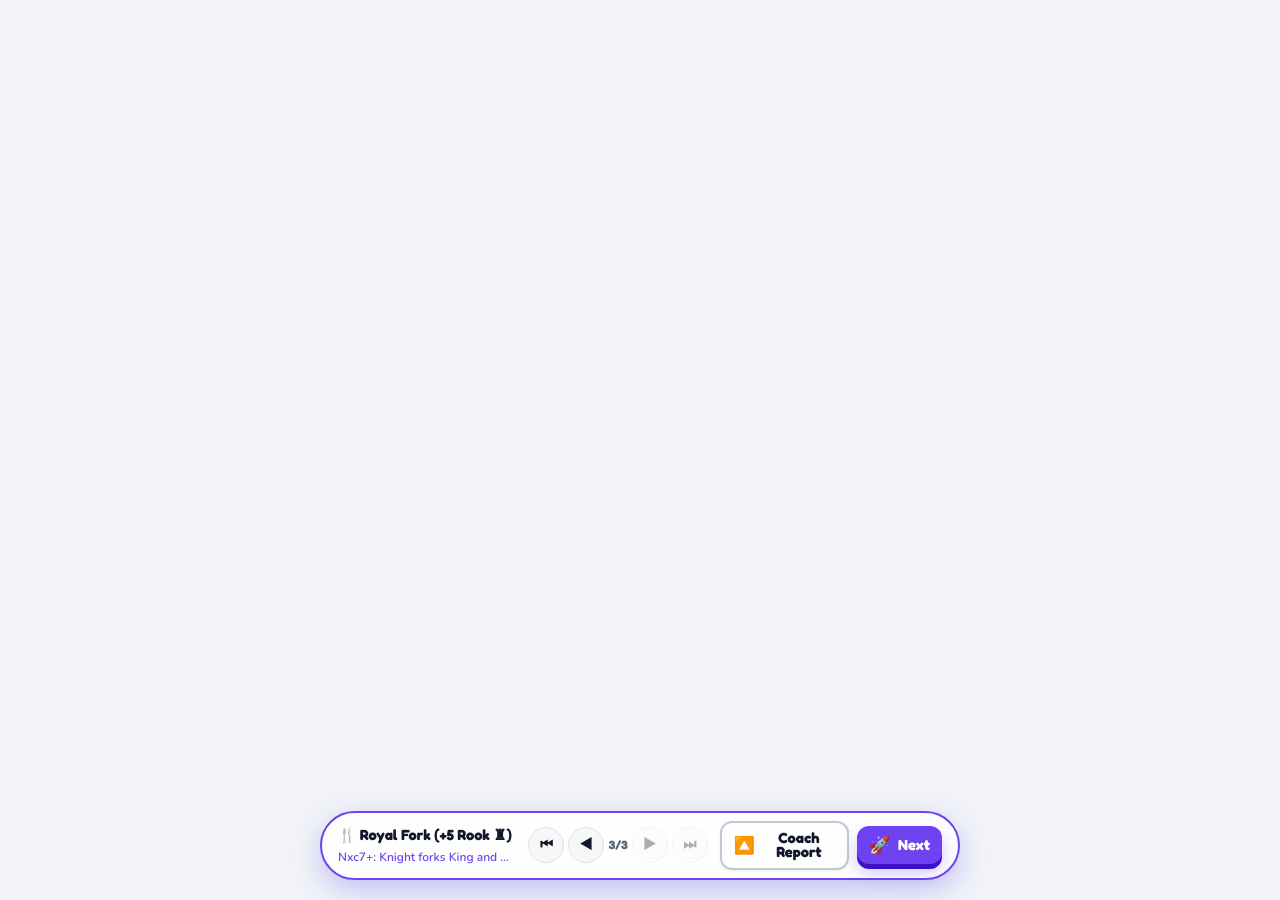
it: PuzzleCompletionModal.vue Component › "Inspect Board" / Minimize Toggle Interaction › restores full modal view when "Coach Report" button in docked bar is clicked
Expected: the element with test id "docked-inspect-bar" is shown, [320, 811, 960, 880]
Click the button with test id "expand-modal-btn".
click(784, 845)  # box [720, 821, 849, 870]
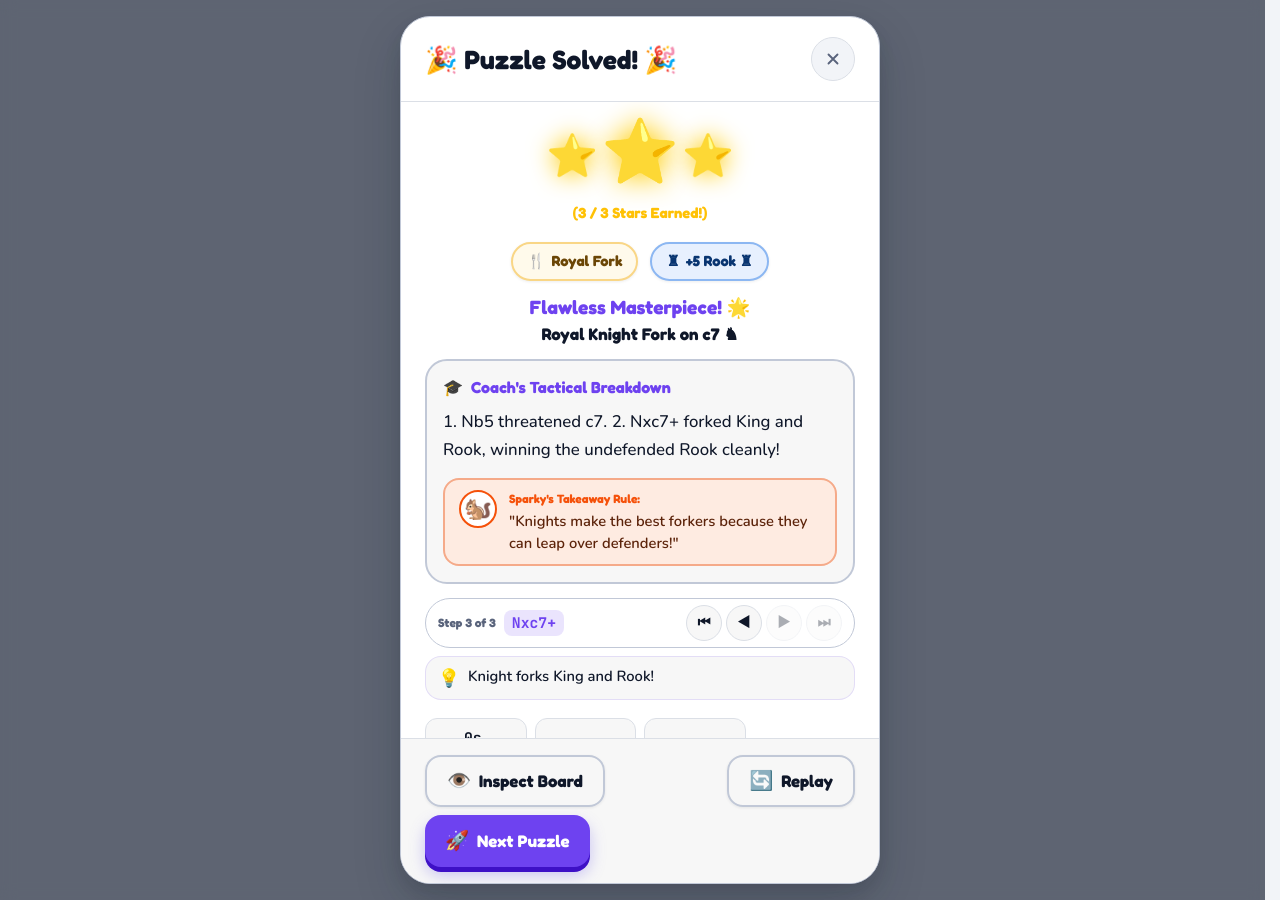
Expected: the dialog with test id "puzzle-completion-modal" is shown, [400, 16, 880, 884]
